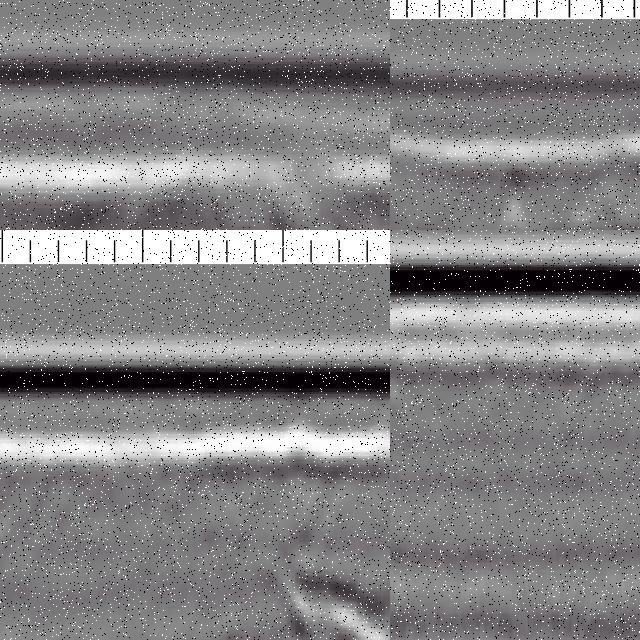loose: (288, 561, 391, 640)
